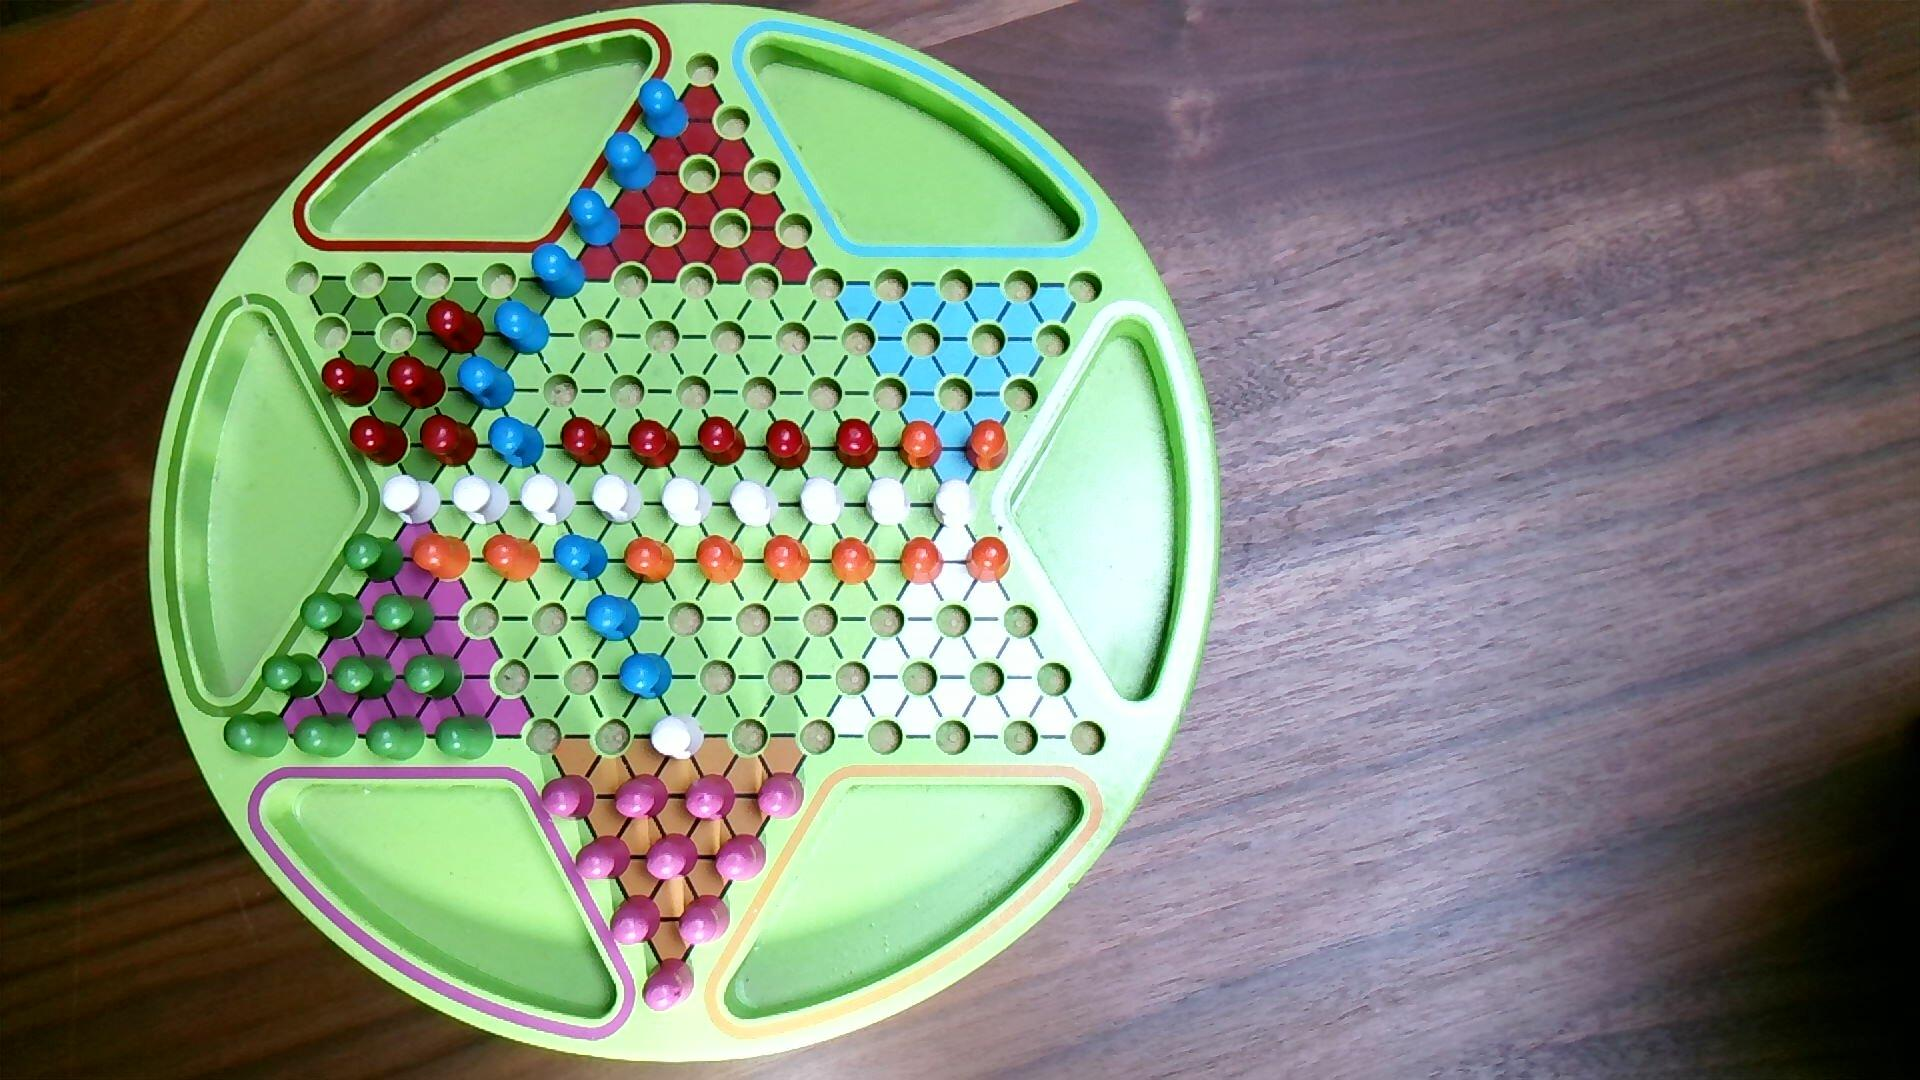B: (600, 131, 659, 195), (564, 187, 622, 251), (636, 78, 691, 141), (456, 356, 517, 413), (487, 415, 549, 471), (493, 301, 553, 357), (530, 243, 587, 301), (553, 533, 611, 585), (584, 593, 644, 644), (618, 651, 675, 702)
G: (342, 531, 406, 585), (299, 591, 367, 642), (223, 709, 290, 760), (331, 653, 398, 703), (371, 592, 438, 642), (401, 651, 465, 703), (261, 651, 327, 702), (291, 712, 359, 761), (364, 713, 429, 764), (433, 713, 496, 762)
O: (483, 531, 543, 585), (410, 531, 473, 583), (694, 533, 746, 587), (762, 533, 814, 585), (622, 535, 676, 585), (963, 418, 1011, 473), (895, 419, 944, 473), (963, 535, 1013, 585), (829, 535, 878, 587), (898, 535, 945, 588)
R: (425, 298, 488, 357), (385, 353, 448, 411), (419, 413, 481, 469), (349, 415, 411, 469), (320, 356, 382, 409), (626, 418, 682, 472), (559, 415, 615, 469), (696, 415, 749, 469), (764, 418, 814, 473), (832, 415, 881, 472)
R2: (640, 955, 696, 1014), (676, 893, 733, 947), (608, 893, 663, 947), (644, 832, 702, 884), (574, 833, 633, 884), (613, 773, 673, 822), (541, 774, 599, 823), (753, 770, 807, 822), (683, 773, 738, 823), (713, 833, 767, 884)
W: (380, 473, 444, 527), (450, 473, 513, 527), (520, 473, 579, 529), (659, 476, 715, 530), (591, 473, 646, 527), (649, 713, 707, 764), (729, 479, 781, 530), (798, 476, 848, 529), (864, 476, 913, 529), (931, 479, 978, 531)
